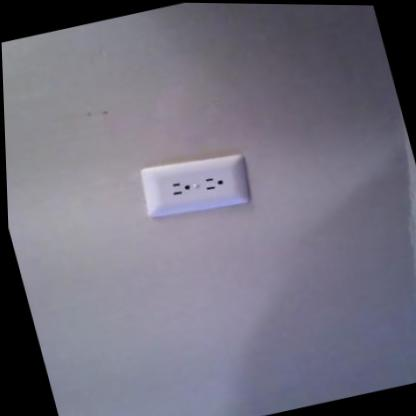OUTLET: (137, 146, 255, 226)
